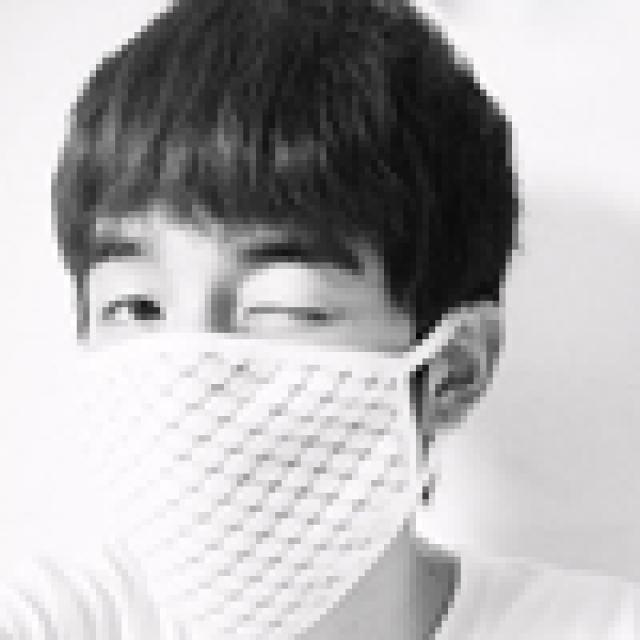mask: (58, 147, 403, 595)
